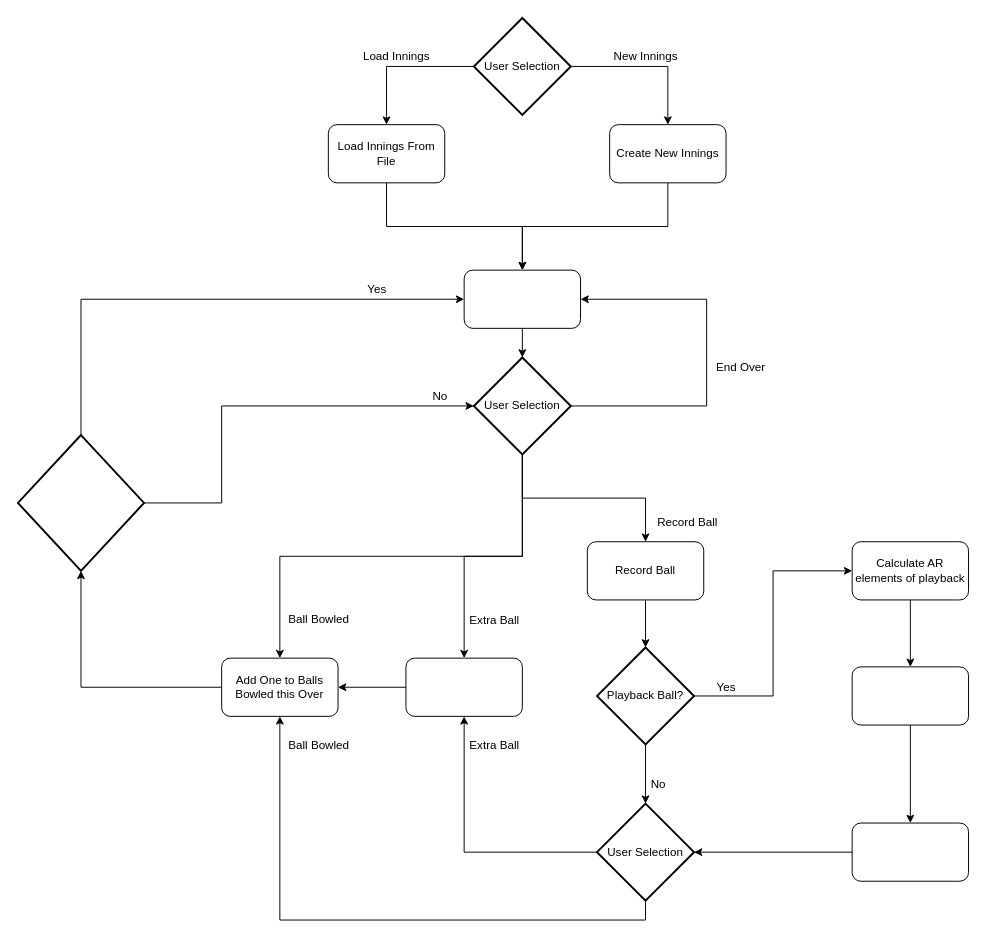
The diagram is 986 pixels wide and 945 high, and some of its shapes have lost their labels. Each missing label, with the centre of its shape:
"Add 1 to Over Ball Limit" goes at point (463, 686).
"Display predicted decision with confidence values" goes at point (910, 851).
"Has Balls Bowled Reached Ball Limit?" goes at point (80, 502).
"Playback with roll back and forward and pause controls" goes at point (910, 695).
"Select Bowler" goes at point (522, 298).
